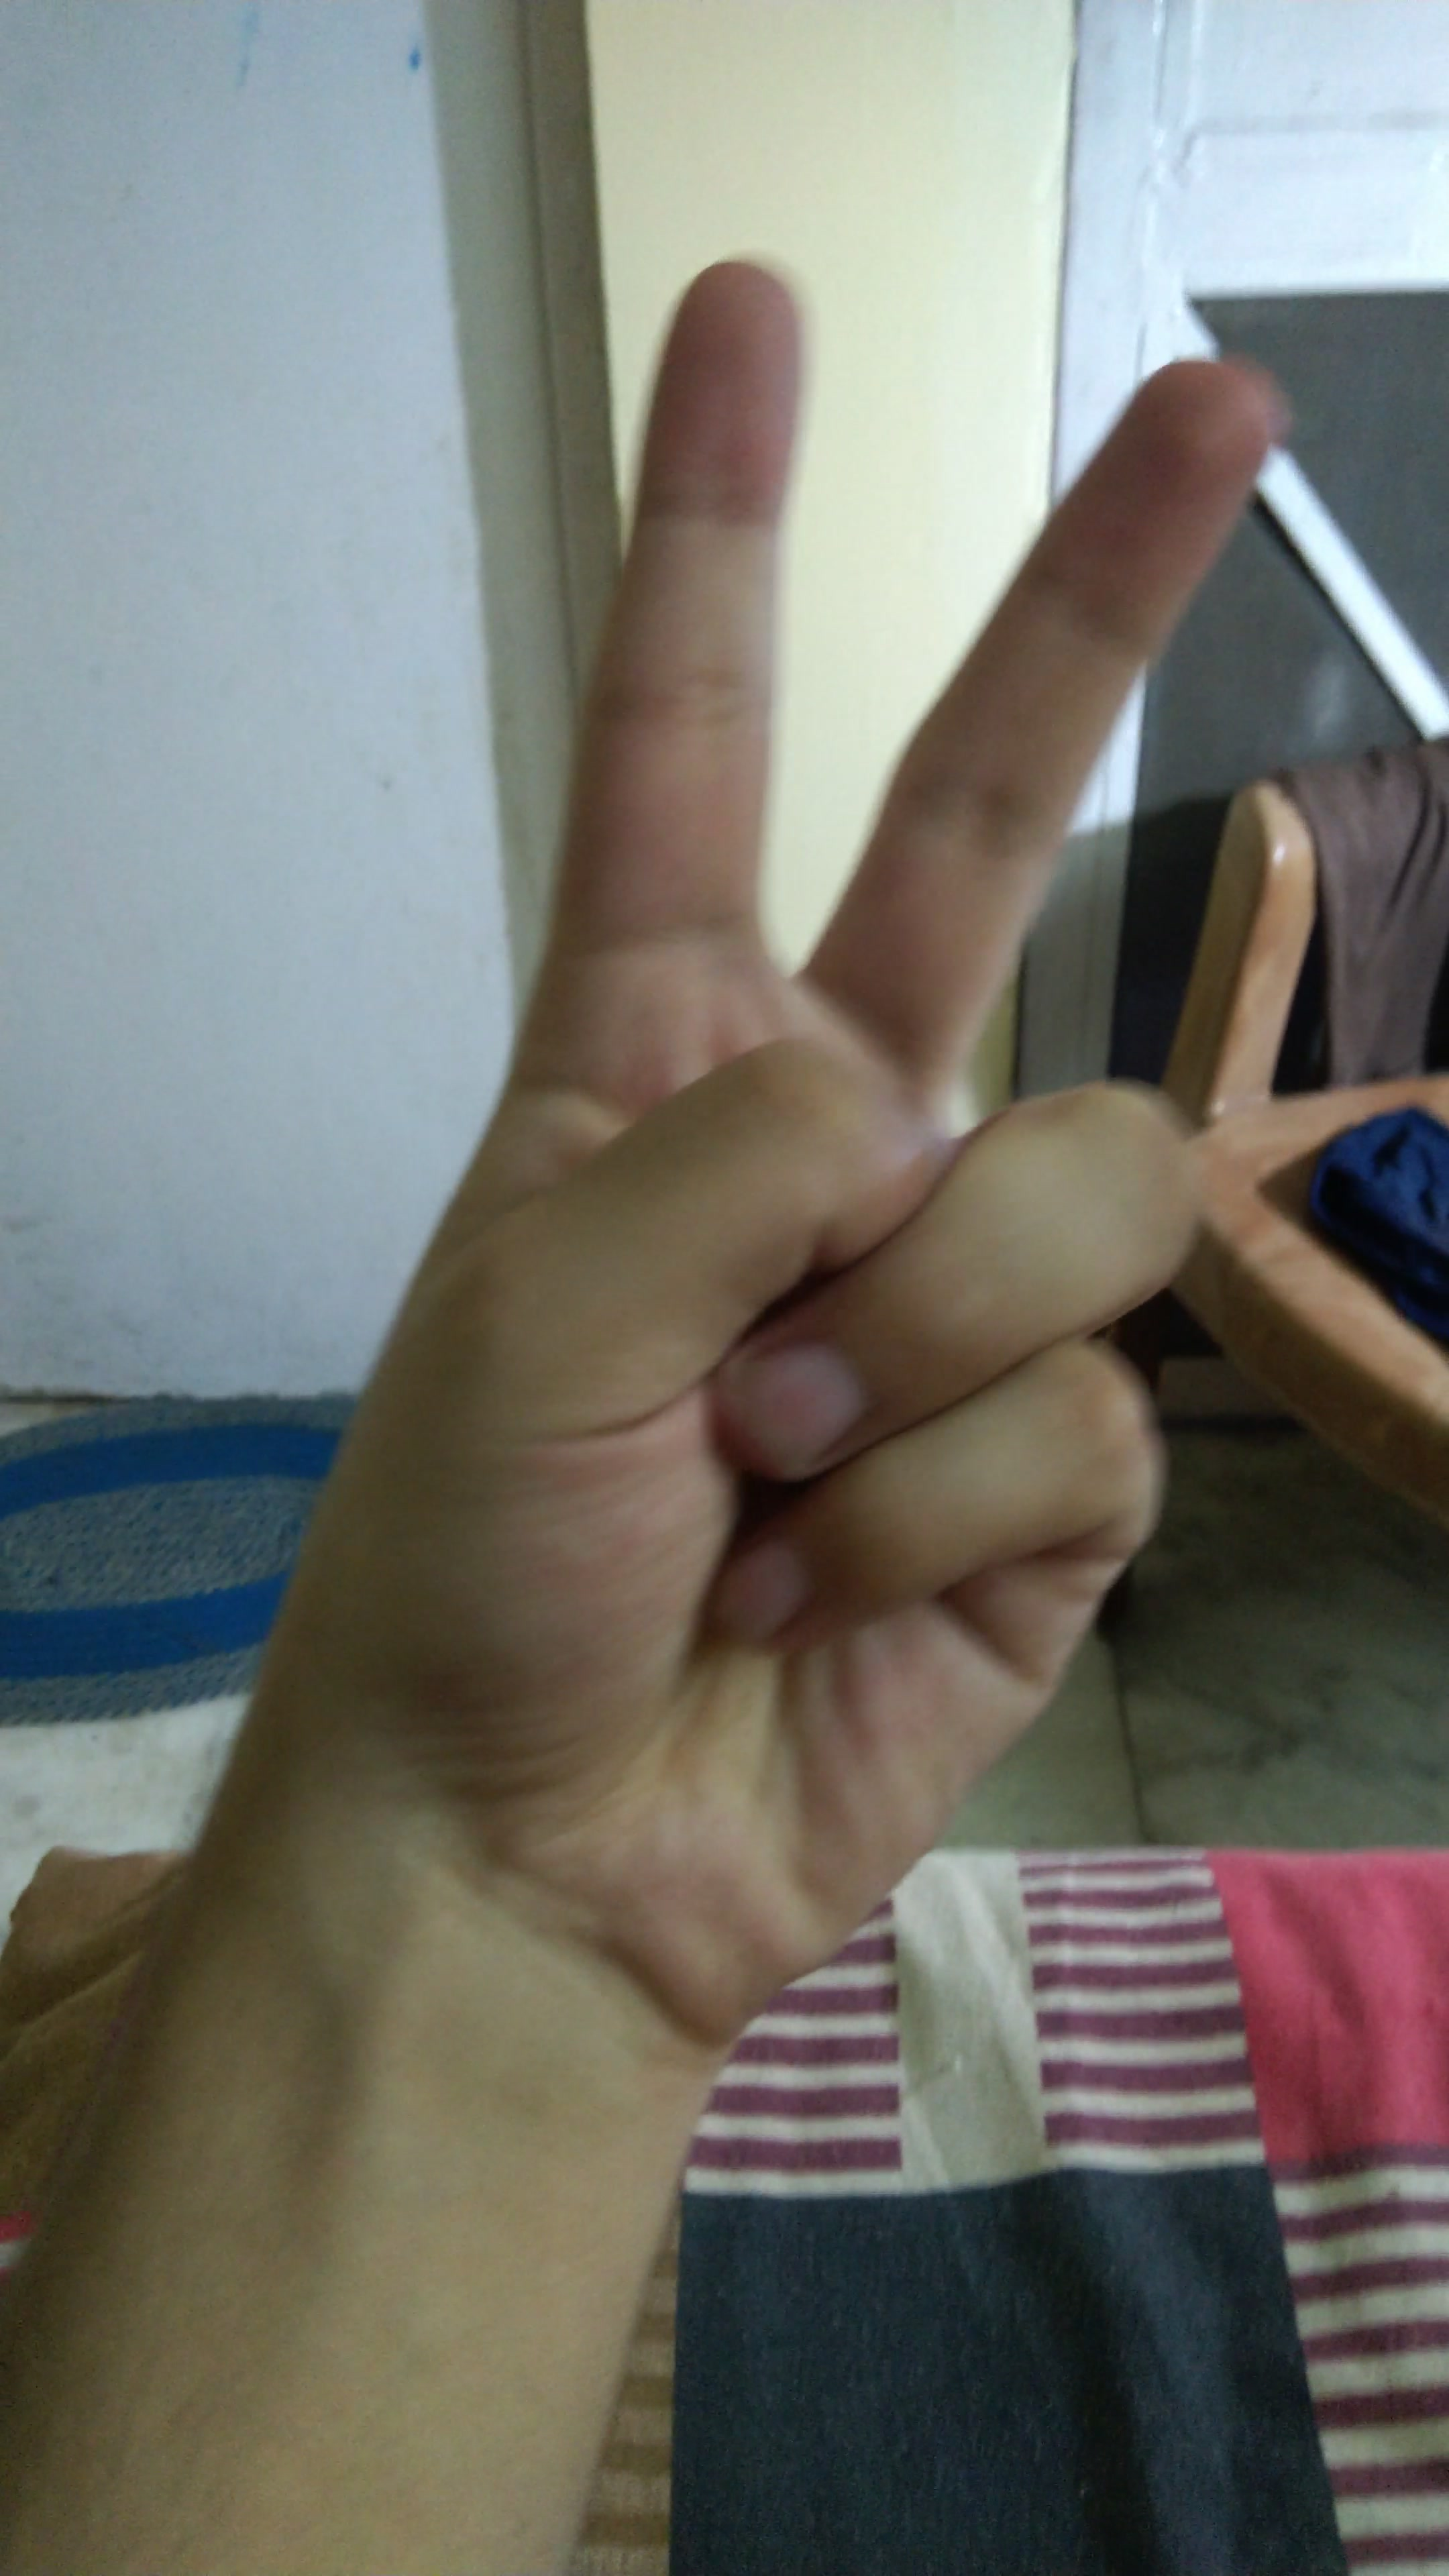hand: (186, 211, 1315, 2097)
